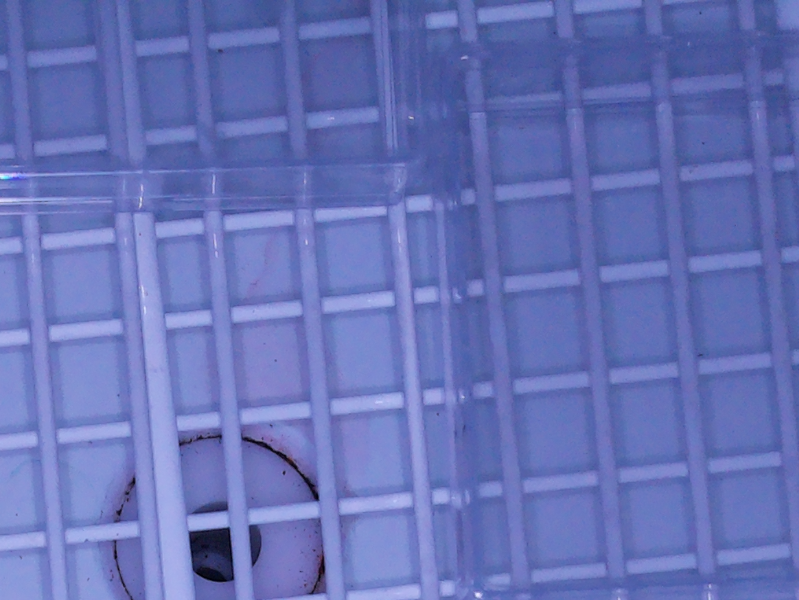plate: (434, 40, 799, 600), (1, 1, 429, 208)
